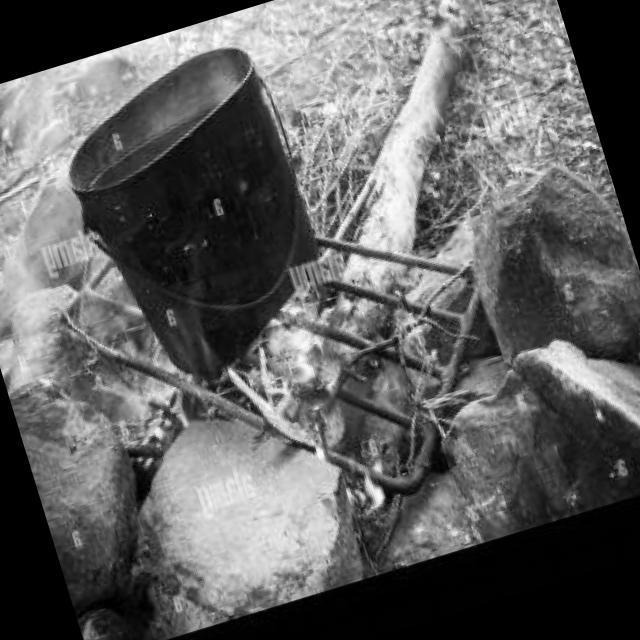fire: (240, 244, 379, 401), (337, 444, 408, 528)
smoke: (0, 121, 193, 471)
